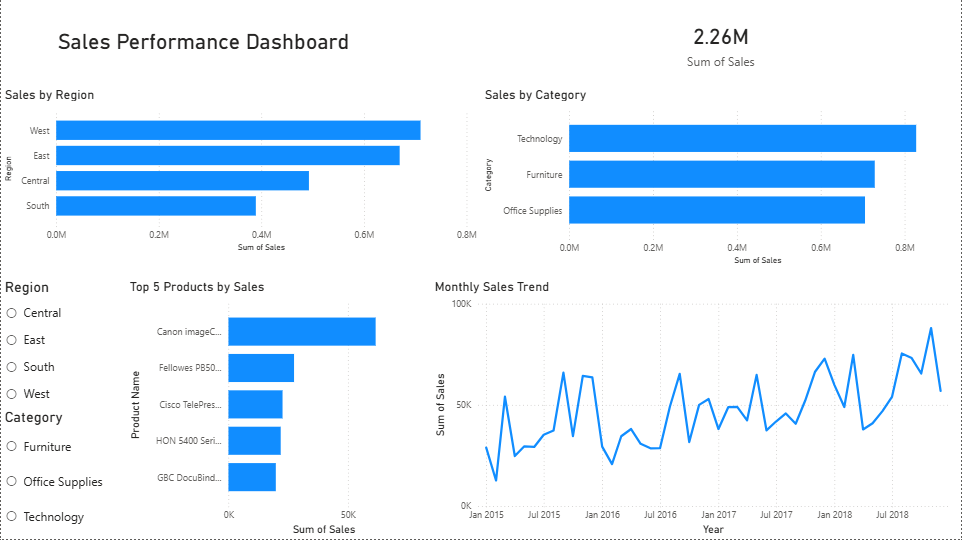

What the dashboard file says about the page in this screenshot:
{"tool":"powerbi","page":{"name":"Page 1","canvas":[1280,720],"ordinal":0},"visuals":[{"type":"barChart","title":"Sales by Category","fields":{"Y":["Sum(train.Sales)"],"Category":["train.Category"]},"box":[640,117.1,640,242.9],"z":0},{"type":"barChart","title":"Sales by Region","fields":{"Category":["train.Region"],"Y":["Sum(train.Sales)"]},"box":[0,117.1,640,225.7],"z":1000},{"type":"card","fields":{"Values":["Sum(train.Sales)"]},"box":[640,0,640,117.5],"z":2000},{"type":"listSlicer","fields":{"Values":["train.Region"]},"box":[0,373.3,166.7,173.3],"z":3000},{"type":"listSlicer","fields":{"Values":["train.Category"]},"box":[0,546.7,166.7,173.3],"z":4000},{"type":"lineChart","title":"Monthly Sales Trend","fields":{"Category":["train.MonthYear.Variation.Date Hierarchy.Year","train.MonthYear.Variation.Date Hierarchy.Quarter","train.MonthYear.Variation.Date Hierarchy.Month","train.MonthYear.Variation.Date Hierarchy.Day"],"Y":["Sum(train.Sales)"]},"box":[573.3,373.3,706.7,346.7],"z":5000},{"type":"textbox","box":[0,0,540,112],"z":6000},{"type":"barChart","title":"Top 5 Products by Sales","fields":{"Category":["train.Product Name"],"Y":["Sum(train.Sales)"]},"box":[166.7,373.3,406.7,346.7],"z":7000}]}

Visuals, with their boxes in screenshot pixels (x1, y1, x2, y2), scaled from the page's 1280x720 canvas onto the 962x540 screenshot:
"Sales by Category" barChart: pyautogui.locateOnScreen(481, 88, 961, 270)
"Sales by Region" barChart: pyautogui.locateOnScreen(0, 88, 481, 257)
card - Sum(train.Sales): pyautogui.locateOnScreen(481, 0, 961, 88)
listSlicer - train.Region: pyautogui.locateOnScreen(0, 280, 125, 410)
listSlicer - train.Category: pyautogui.locateOnScreen(0, 410, 125, 539)
"Monthly Sales Trend" lineChart: pyautogui.locateOnScreen(431, 280, 961, 539)
textbox: pyautogui.locateOnScreen(0, 0, 406, 84)
"Top 5 Products by Sales" barChart: pyautogui.locateOnScreen(125, 280, 431, 539)
